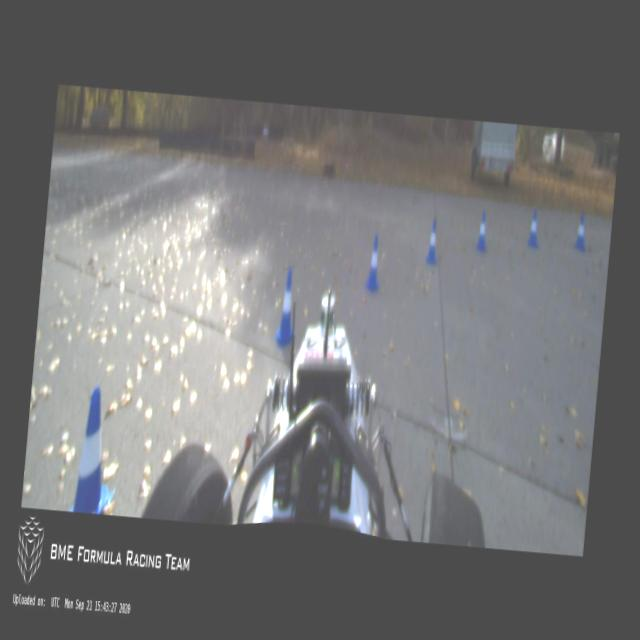blue_cone: (68, 386, 124, 514), (272, 266, 299, 348), (364, 235, 382, 292), (426, 217, 440, 264), (475, 210, 490, 252), (572, 212, 588, 250), (526, 208, 540, 246)
